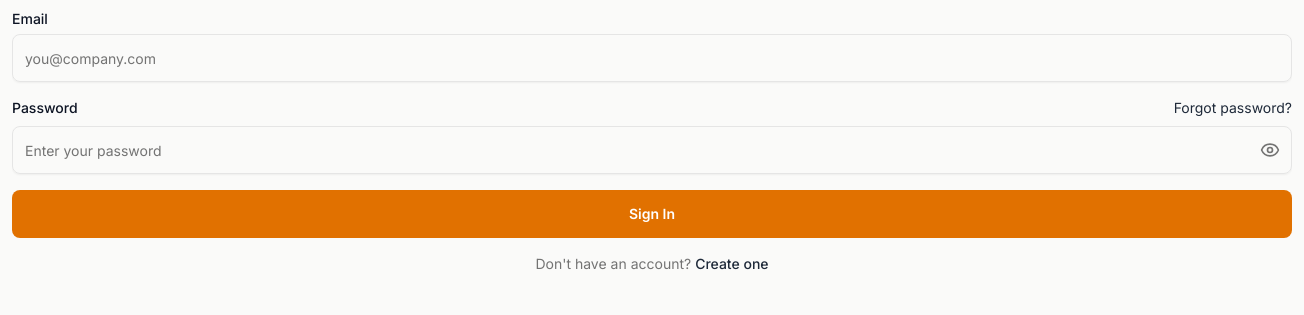
Test case: LoginForm › Form Validation › should show error for invalid email format on blur
In the field labelled "Email": coordinates (652, 58) [12,34,1292,82], type "invalid-email"
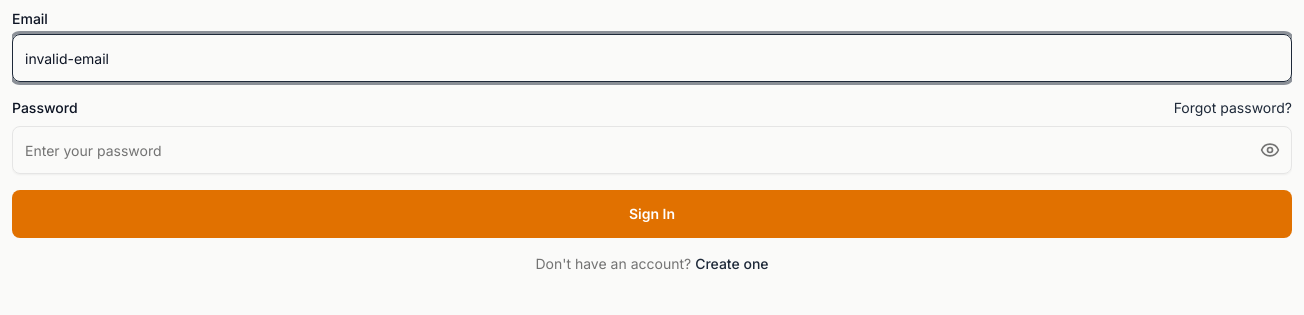
Leave the field labelled "Email", box [12,34,1292,82]
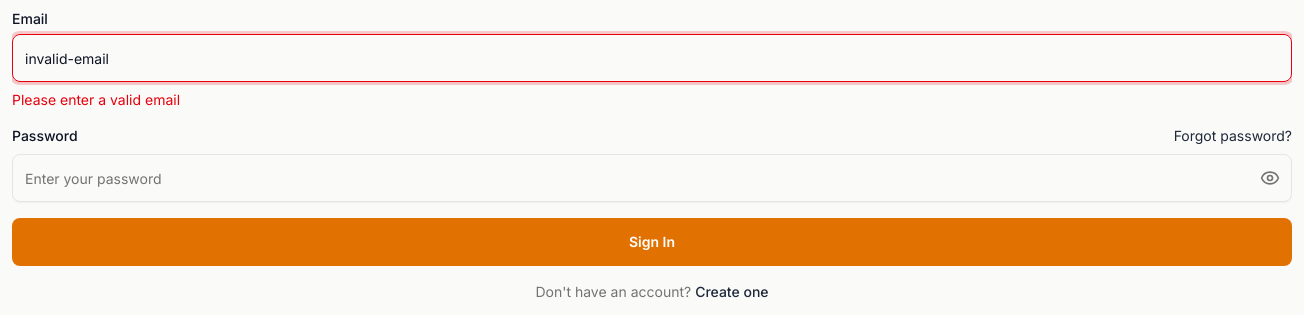
Result: the text "Please enter a valid email" is shown at [12,91,180,108]
